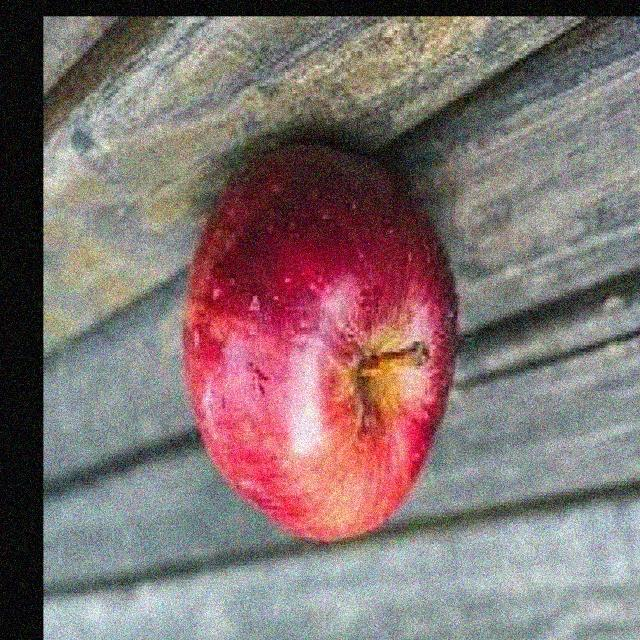red apple: (180, 139, 458, 550)
